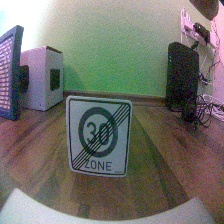dreisiger_zone_ende: (65, 95, 132, 179)
